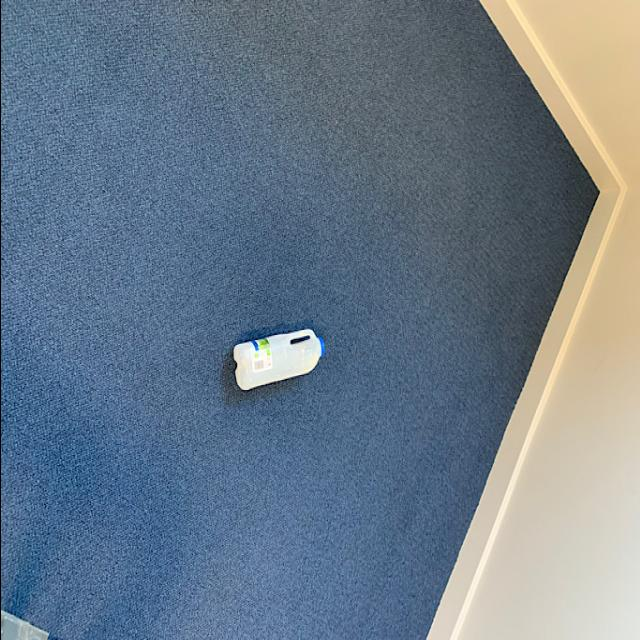HDPEM: (227, 326, 330, 394)
